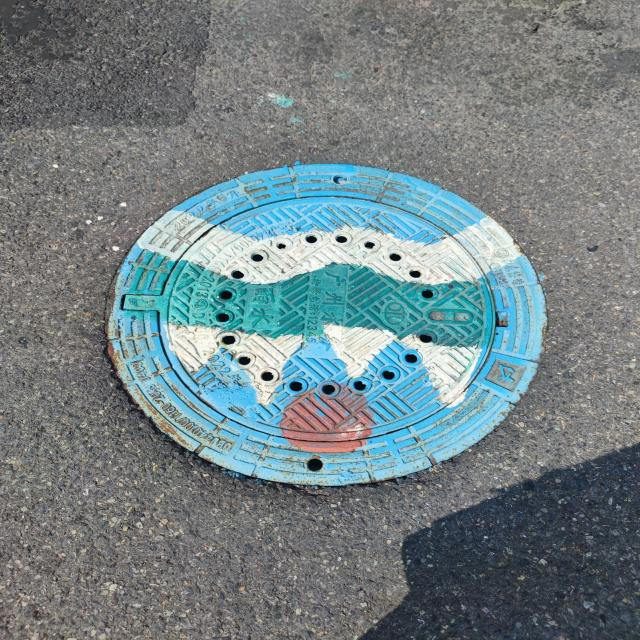Good: (95, 158, 552, 494)
